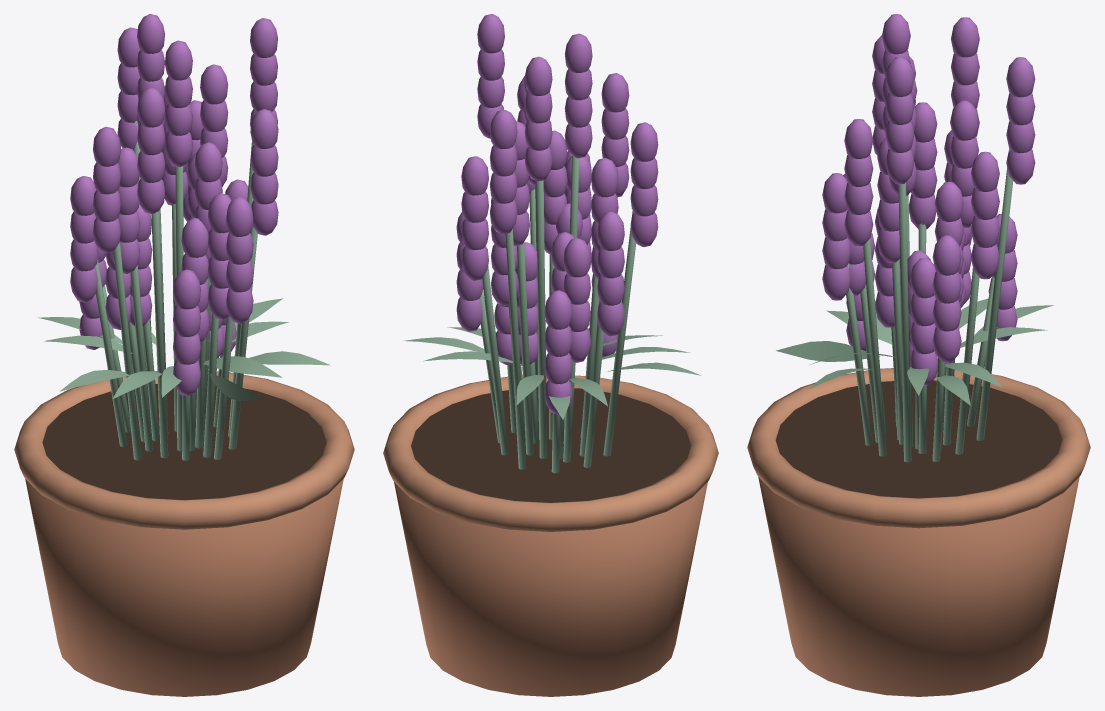
Rendered from lavender.glb.
3 renders of one model, left to right at view 1: azimuth 30°, elevation 25°; view 2: azimuth 150°, elevation 25°; view 3: azimuth 270°, elevation 25°, orthographic. The views are drawn at different scales.
Parts seen in each view (by area): view 1: pot_static, soil_static, pot_rim_static, stem_g446_lavender_12, stem_g182_lavender_4, stem_g611_lavender_17, stem_g347_lavender_9, stem_g710_lavender_20, stem_g116_lavender_2, stem_g809_lavender_23, stem_g644_lavender_18, bud_g395_lavender_5_0 (+60 smaller); view 2: pot_static, soil_static, pot_rim_static, stem_g248_lavender_6, stem_g677_lavender_19, stem_g182_lavender_4, stem_g413_lavender_11, stem_g149_lavender_3, stem_g611_lavender_17, stem_g347_lavender_9, bud_g362_lavender_4_0, bud_g659_lavender_13_0 (+50 smaller); view 3: pot_static, soil_static, pot_rim_static, stem_g479_lavender_13, stem_g677_lavender_19, stem_g644_lavender_18, stem_g149_lavender_3, stem_g809_lavender_23, stem_g380_lavender_10, leaf_g116_lavender_leaf_2, bud_g428_lavender_6_0, bud_g593_lavender_11_0 (+47 smaller).
Boxes of the visible parts, x1,y1,x2,y2 form: pot_static: (25, 479, 343, 696); soil_static: (42, 384, 326, 499); pot_rim_static: (14, 371, 354, 529); stem_g446_lavender_12: (151, 211, 168, 458); stem_g182_lavender_4: (113, 241, 141, 460); stem_g611_lavender_17: (131, 265, 152, 451); stem_g347_lavender_9: (94, 258, 127, 447); stem_g710_lavender_20: (175, 166, 183, 451); stem_g116_lavender_2: (203, 313, 219, 457); stem_g809_lavender_23: (214, 316, 233, 459); stem_g644_lavender_18: (228, 226, 257, 449); bud_g395_lavender_5_0: (200, 64, 228, 104); pot_static: (394, 482, 707, 696); soil_static: (411, 388, 690, 502); pot_rim_static: (383, 375, 718, 531); stem_g248_lavender_6: (536, 180, 547, 458); stem_g677_lavender_19: (505, 229, 526, 469); stem_g182_lavender_4: (603, 210, 636, 456); stem_g413_lavender_11: (517, 242, 533, 455); stem_g149_lavender_3: (482, 245, 508, 455); stem_g611_lavender_17: (579, 274, 599, 456); stem_g347_lavender_9: (583, 323, 604, 467); bud_g362_lavender_4_0: (630, 122, 658, 161); bud_g659_lavender_13_0: (477, 14, 504, 53); pot_static: (758, 477, 1079, 696); soil_static: (775, 380, 1062, 498); pot_rim_static: (747, 368, 1090, 528); stem_g479_lavender_13: (898, 182, 911, 462); stem_g677_lavender_19: (976, 149, 1013, 440); stem_g644_lavender_18: (863, 238, 886, 456); stem_g149_lavender_3: (955, 268, 979, 454); stem_g809_lavender_23: (846, 263, 872, 445); stem_g380_lavender_10: (892, 259, 903, 444); leaf_g116_lavender_leaf_2: (776, 341, 879, 361); bud_g428_lavender_6_0: (951, 17, 979, 57); bud_g593_lavender_11_0: (950, 100, 978, 140).
Bounding box in the file's own units: 0.39 × 0.7775 × 0.39.
